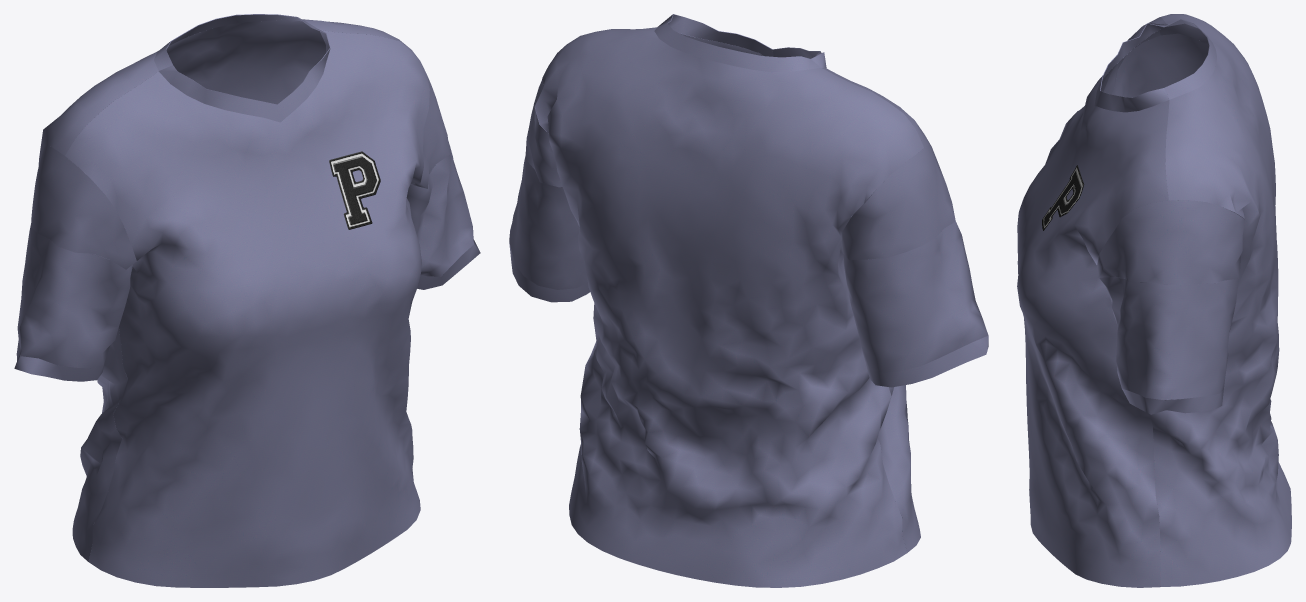
3 renders of one model, left to right at view 1: azimuth 30°, elevation 25°; view 2: azimuth 150°, elevation 25°; view 3: azimuth 270°, elevation 25°, orthographic. The views are drawn at different scales.
Parts seen in each view (by area): view 1: Pattern2D_482616, Pattern2D_487092, Pattern2D_200717, Pattern2D_200916, Pattern2D_203654, MatShape_14349, Pattern2D_3805017, Pattern2D_203397, Pattern2D_190946, Pattern2D_3805002, Pattern2D_3805018, Pattern2D_193312; view 2: Pattern2D_487092, Pattern2D_200717, Pattern2D_200916, Pattern2D_203654, Pattern2D_482616, Pattern2D_3805002, Pattern2D_190946, Pattern2D_203397, Pattern2D_3805018, Pattern2D_193312; view 3: Pattern2D_482616, Pattern2D_487092, Pattern2D_203654, Pattern2D_203397, Pattern2D_200916, Pattern2D_193312, Pattern2D_3805002, Pattern2D_3805018, MatShape_14349, Pattern2D_3805017.
Part boxes in pixels (x1,y1,x2,y2): Pattern2D_482616: (65, 30, 429, 587); Pattern2D_487092: (41, 19, 408, 561); Pattern2D_200717: (17, 223, 132, 368); Pattern2D_200916: (31, 144, 136, 269); Pattern2D_203654: (406, 141, 473, 276); MatShape_14349: (329, 151, 380, 229); Pattern2D_3805017: (159, 65, 280, 122); Pattern2D_203397: (410, 74, 449, 188); Pattern2D_190946: (14, 340, 105, 381); Pattern2D_3805002: (154, 14, 318, 70); Pattern2D_3805018: (277, 27, 330, 122); Pattern2D_193312: (417, 239, 480, 289); Pattern2D_487092: (534, 27, 923, 587); Pattern2D_200717: (843, 221, 988, 372); Pattern2D_200916: (842, 145, 955, 260); Pattern2D_203654: (509, 156, 587, 289); Pattern2D_482616: (611, 29, 931, 552); Pattern2D_3805002: (654, 21, 820, 72); Pattern2D_190946: (866, 335, 988, 387); Pattern2D_203397: (525, 78, 562, 187); Pattern2D_3805018: (658, 14, 773, 56); Pattern2D_193312: (509, 242, 589, 302); Pattern2D_482616: (1017, 17, 1169, 587); Pattern2D_487092: (1149, 14, 1291, 586); Pattern2D_203654: (1099, 277, 1238, 400); Pattern2D_203397: (1097, 200, 1244, 284); Pattern2D_200916: (1111, 33, 1208, 97); Pattern2D_193312: (1122, 388, 1223, 414); Pattern2D_3805002: (1164, 19, 1216, 99); Pattern2D_3805018: (1095, 88, 1169, 112); MatShape_14349: (1042, 165, 1084, 230); Pattern2D_3805017: (1094, 23, 1167, 105).
Bounding box in the file's own units: 52.04 × 52.74 × 27.53.
